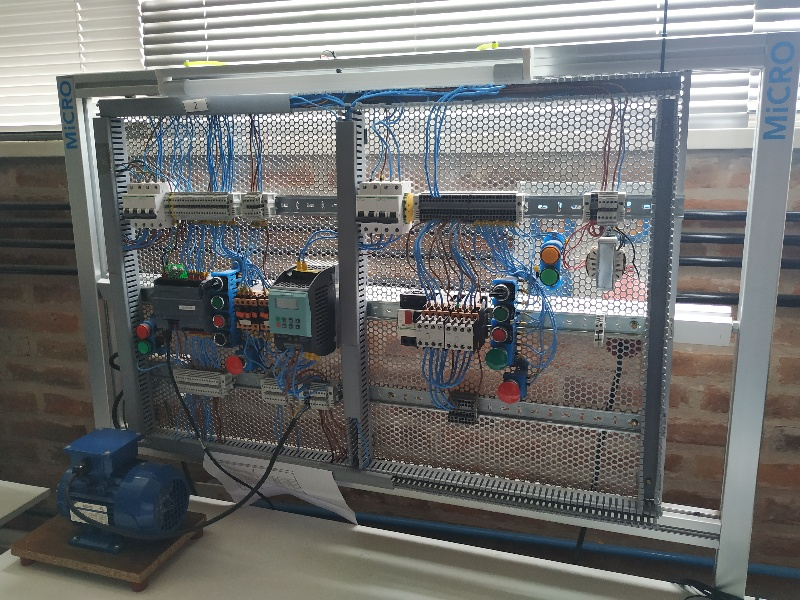Tablero 2: (107, 103, 657, 511)
